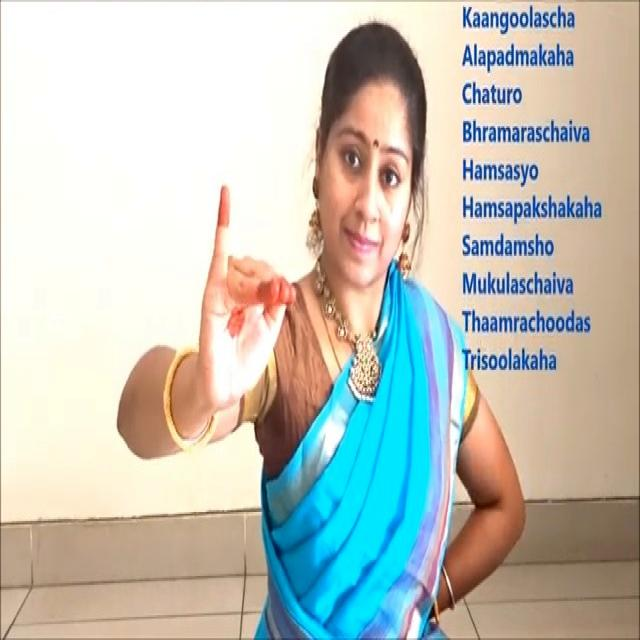Hamsapaksha: (193, 172, 305, 414)
lady: (304, 5, 434, 309)
text: (452, 0, 607, 383)
